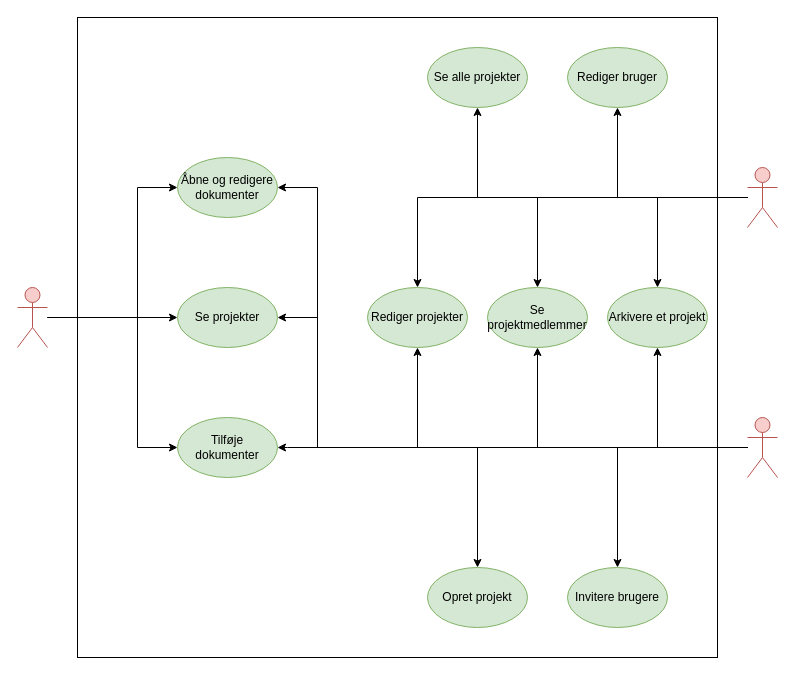
Image size: 812x675. Some labels were removed from this diagram. Each missing label, with the centre of its shape:
"Admin" goes at point 762,197.
"Ansat" goes at point 32,317.
"Projektleder" goes at point 762,447.
